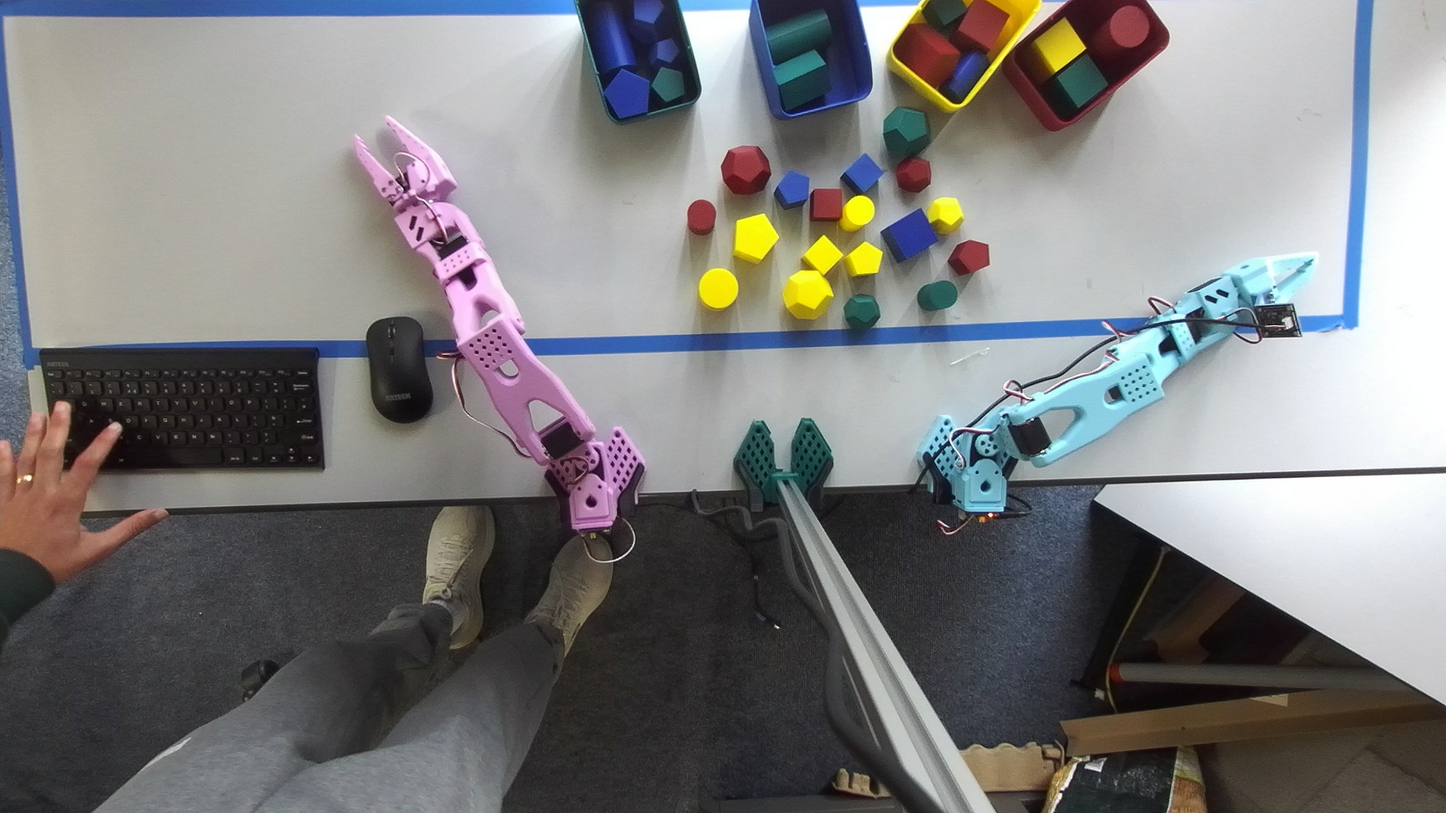bin: (1004, 0, 1168, 129), (887, 0, 1041, 113), (575, 0, 700, 123), (749, 0, 872, 118)
cube: (1042, 55, 1107, 116), (1029, 19, 1085, 81), (880, 209, 938, 261), (956, 0, 1008, 50), (840, 154, 883, 194), (801, 235, 842, 274), (925, 0, 968, 29), (809, 188, 843, 221)
cylinder: (581, 0, 635, 73), (765, 10, 831, 64), (1090, 5, 1149, 60), (940, 50, 988, 102), (698, 268, 737, 309), (839, 195, 874, 231), (917, 280, 958, 310), (688, 199, 715, 234)
dodecahedron: (883, 107, 931, 160), (782, 269, 832, 318), (721, 145, 770, 194), (630, 0, 665, 43), (926, 197, 963, 236), (843, 294, 880, 329), (895, 157, 931, 192), (647, 38, 679, 66)
gripper: (354, 115, 456, 212), (1228, 253, 1317, 306)
hexagonal: (893, 22, 959, 88), (773, 51, 828, 109), (605, 69, 649, 118), (733, 214, 777, 262), (947, 240, 990, 274), (773, 171, 809, 209), (846, 242, 882, 276), (651, 67, 685, 102)
